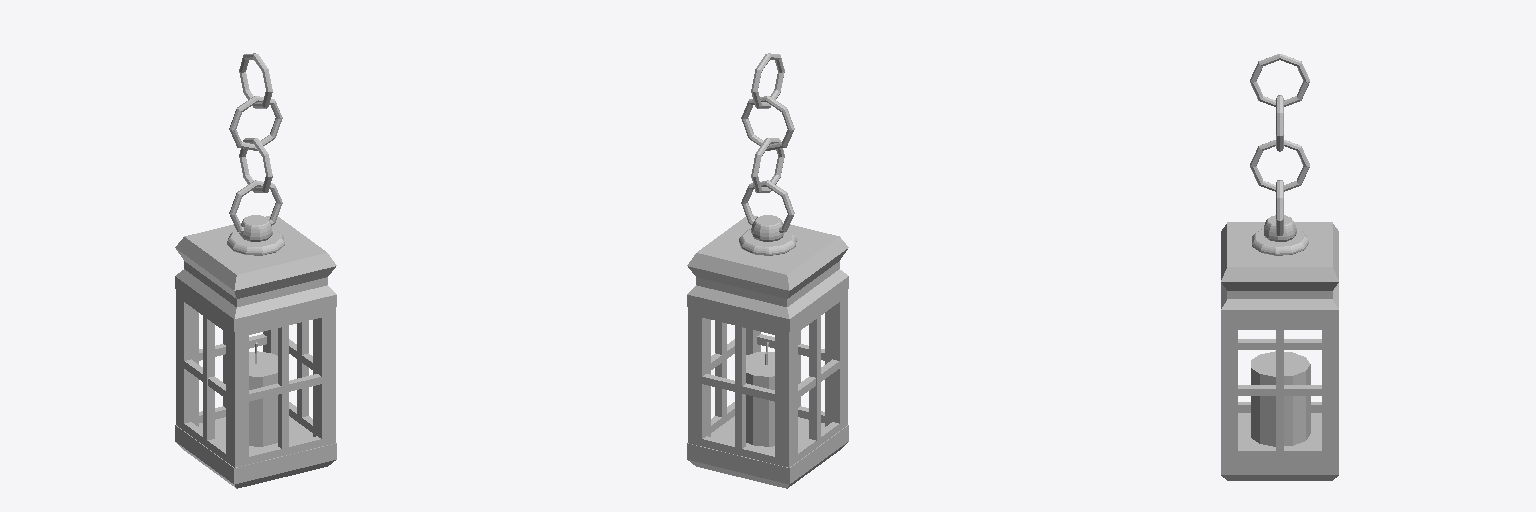
Rendered from Lanterns.obj.
The picture shows the model from 3 angles: view 1: azimuth 30°, elevation 25°; view 2: azimuth 150°, elevation 25°; view 3: azimuth 270°, elevation 25°; orthographic projection.
Size of the model in its own units: 0.132 by 0.498 by 0.132.